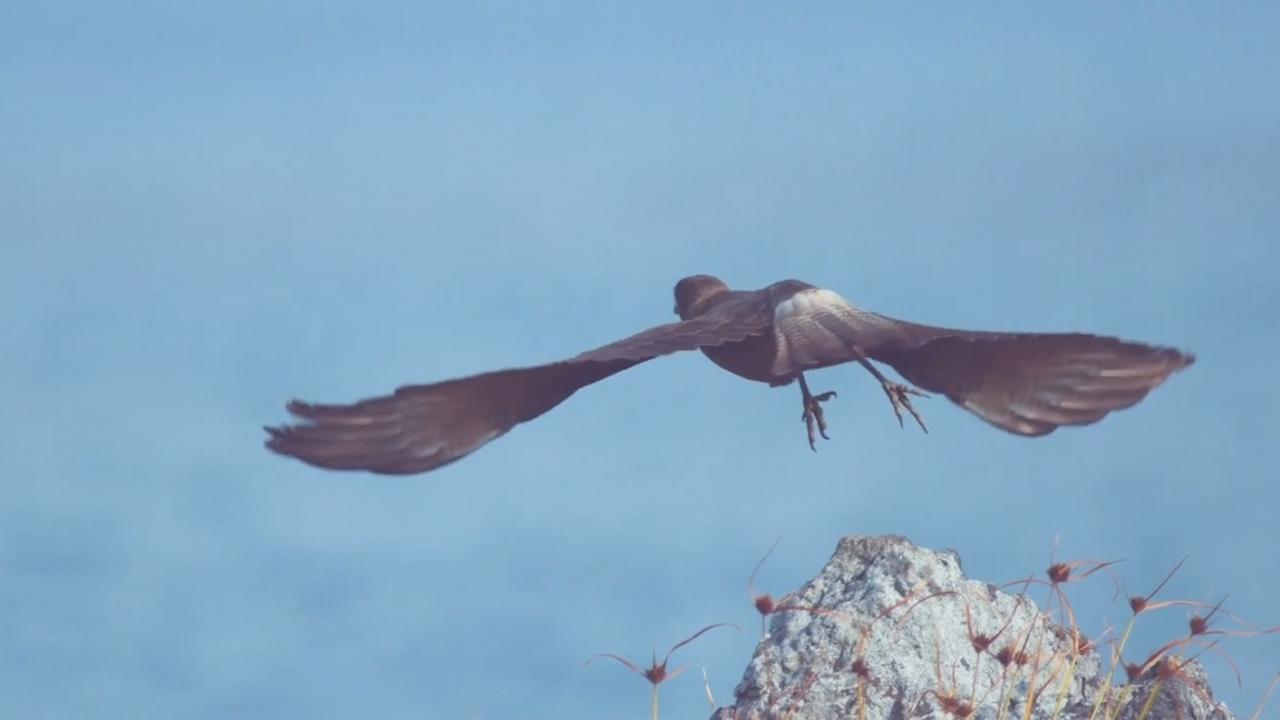Bird: (253, 269, 1209, 488)
